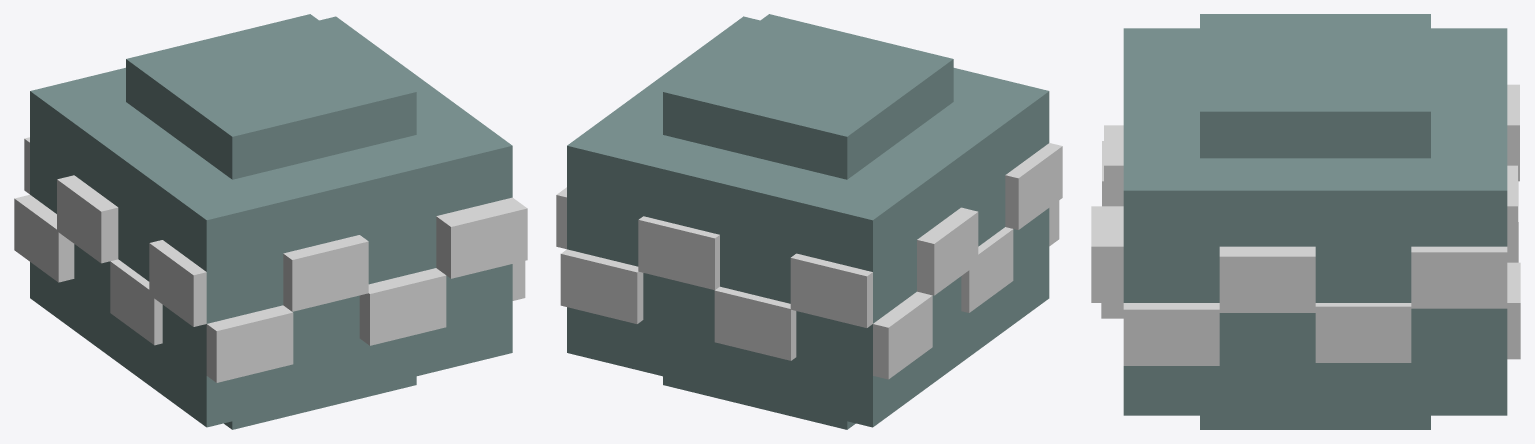
Rendered from grmicevje.fbx.
3 views of the same model, side by side, from view 1: azimuth 30°, elevation 25°; view 2: azimuth 150°, elevation 25°; view 3: azimuth 270°, elevation 25° (orthographic). The views are drawn at different scales.
Parts seen in each view (by area): view 1: Model; view 2: Model; view 3: Model.
Part boxes in pixels (<box>): Model: <box>14,14,527,429</box>; Model: <box>556,14,1062,429</box>; Model: <box>1091,14,1520,429</box>.
Size of the model in its own units: 675 by 553 by 676.
